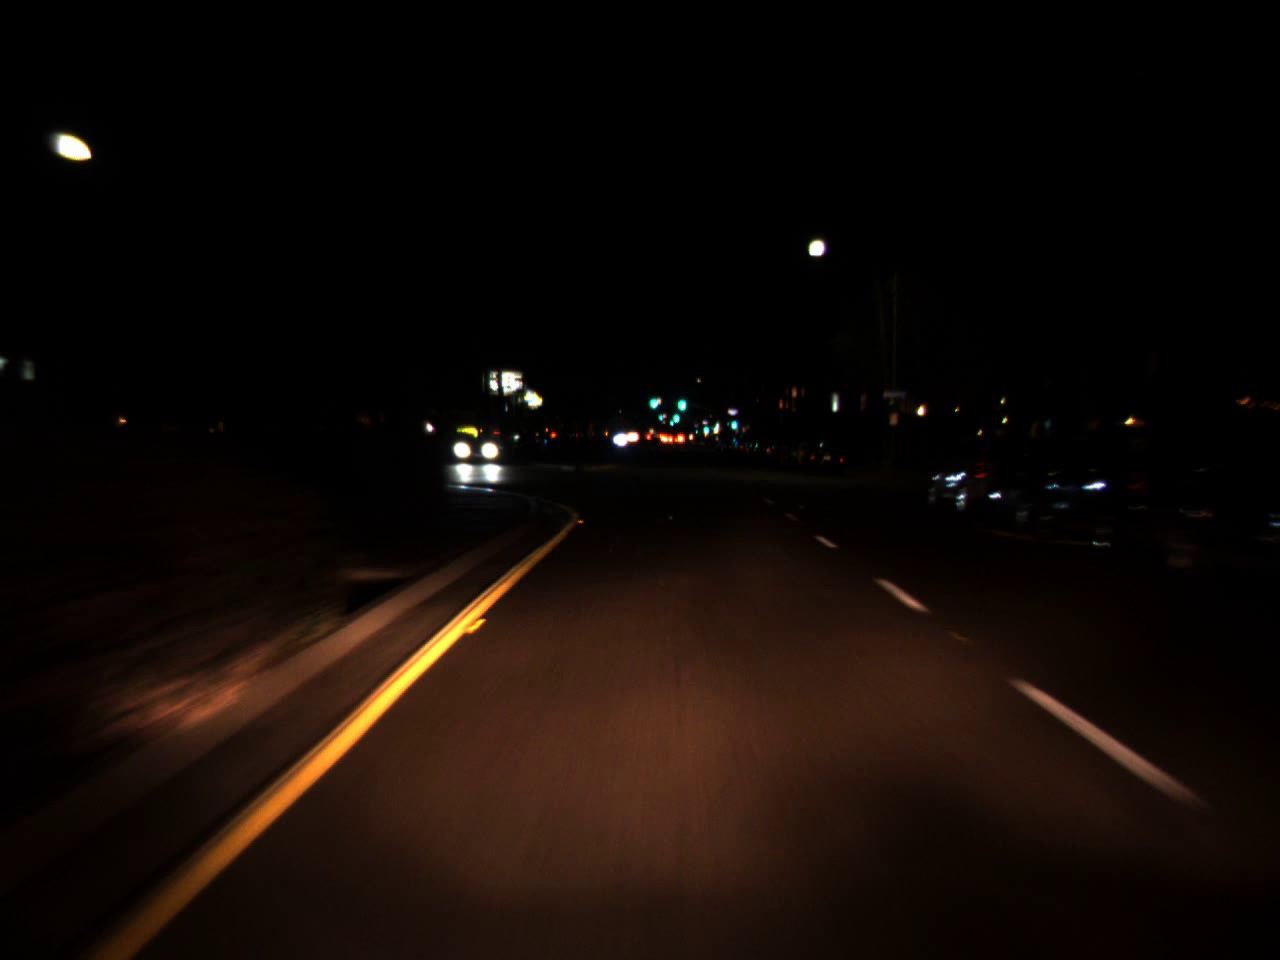go: (674, 387, 688, 414), (646, 389, 658, 410), (729, 416, 738, 431), (671, 407, 680, 422), (701, 419, 710, 434), (667, 414, 674, 426)
